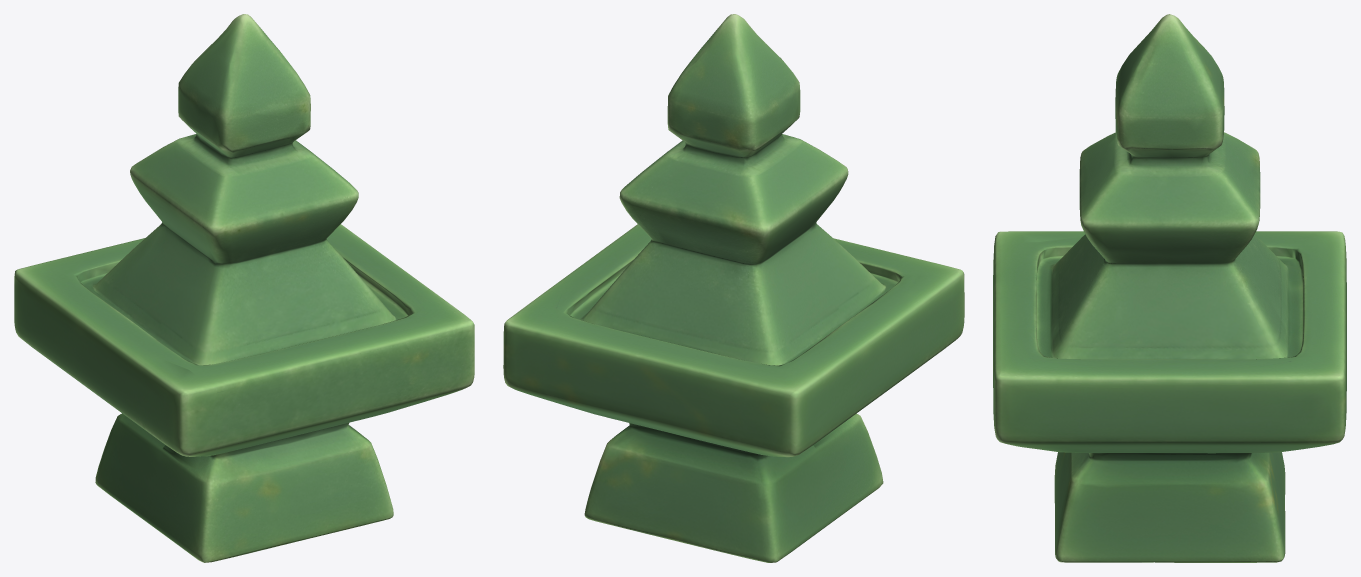
File: level3_rough.glb
The picture shows the model from 3 angles, left to right: view 1: azimuth 30°, elevation 25°; view 2: azimuth 150°, elevation 25°; view 3: azimuth 270°, elevation 25°; orthographic projection. The views are drawn at different scales.
Parts seen in each view (by area): view 1: tripo_node_bf7a9d1c; view 2: tripo_node_bf7a9d1c; view 3: tripo_node_bf7a9d1c.
Part boxes in pixels (x1,y1,x2,y2): tripo_node_bf7a9d1c: (14, 14, 474, 562); tripo_node_bf7a9d1c: (503, 14, 964, 562); tripo_node_bf7a9d1c: (993, 14, 1346, 562).
Size of the model in its own units: 0.2804 by 0.4385 by 0.2805.
1 material, 1 textured.
